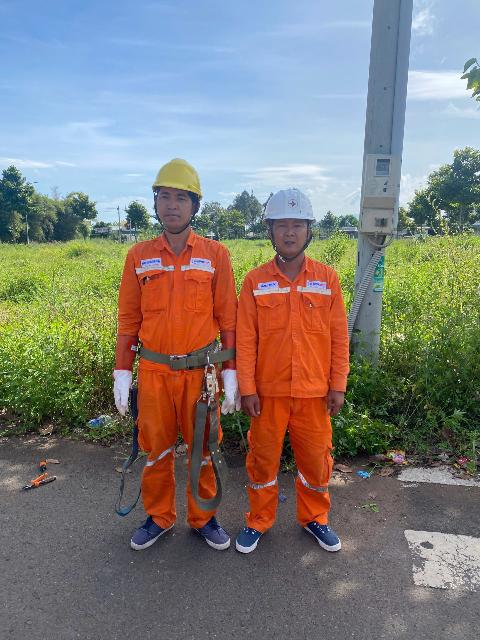gloves: (201, 366, 247, 418), (98, 365, 136, 417)
harness: (126, 331, 231, 382)
helmet: (151, 153, 207, 206), (261, 182, 323, 229)
shoes: (296, 508, 350, 557), (128, 503, 174, 551), (192, 512, 234, 552), (229, 514, 268, 551)
